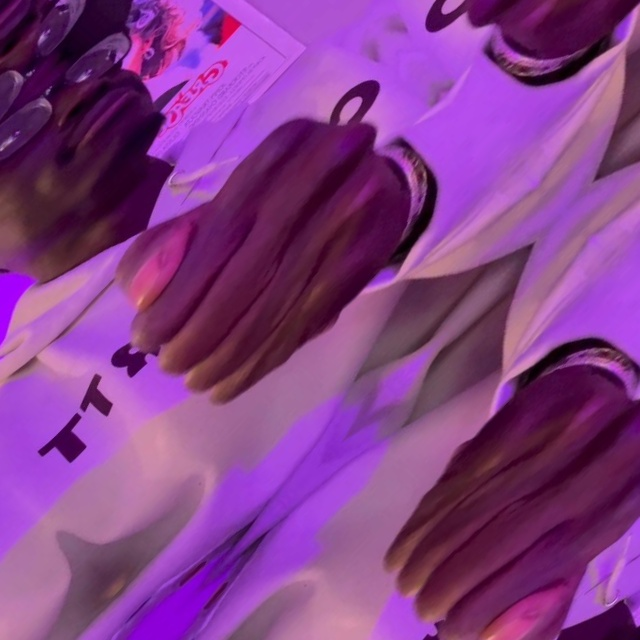Rock: (0, 0, 53, 52)
